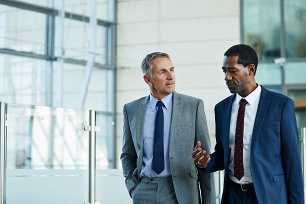male: (219, 47, 258, 97), (142, 54, 177, 99)
